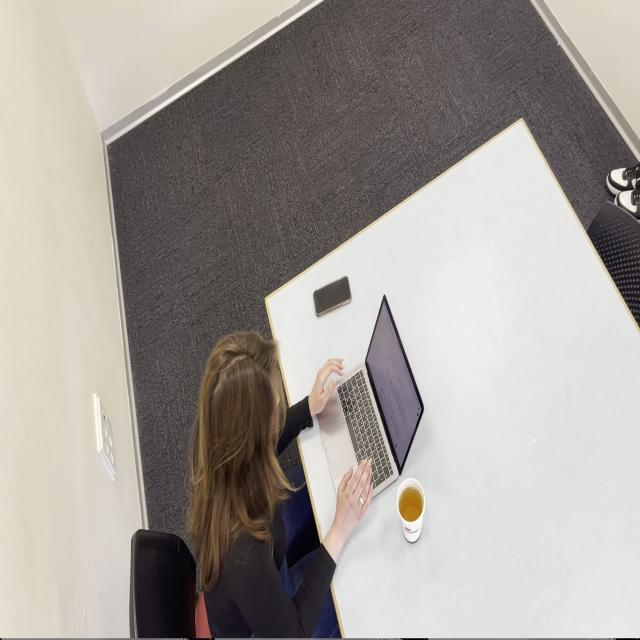bag: (312, 275, 352, 318)
ipad: (187, 330, 373, 639)
laptop: (316, 293, 424, 504)
